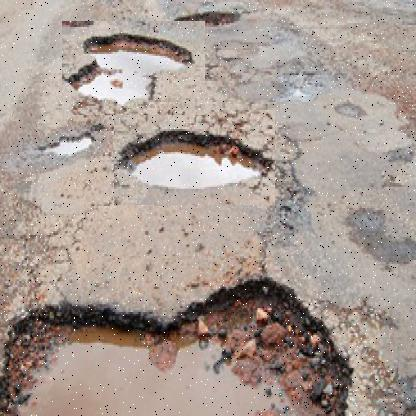pothole_water: (114, 110, 276, 206), (62, 21, 206, 116)
